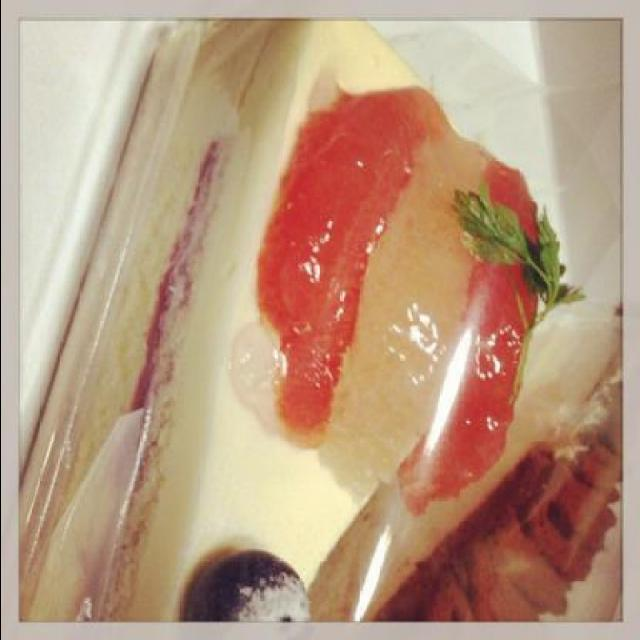Rare cheese cake: (29, 21, 569, 622)
